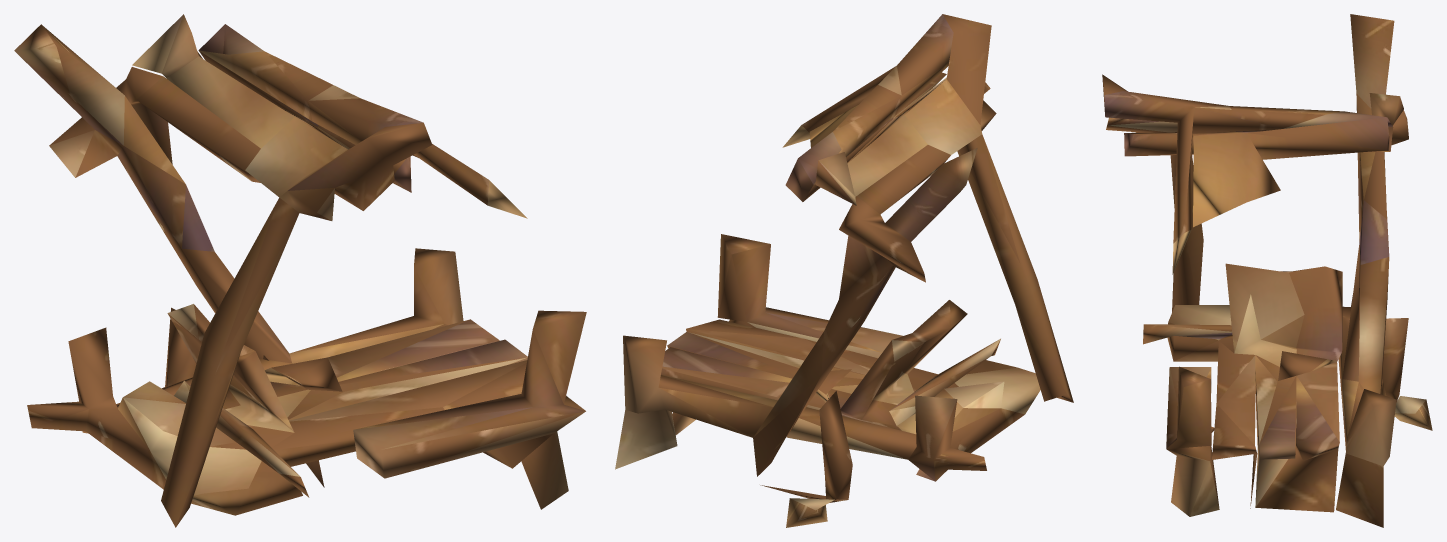
The model's file is node_fishing.glb.
3 views of the same model, side by side, from view 1: azimuth 30°, elevation 25°; view 2: azimuth 150°, elevation 25°; view 3: azimuth 270°, elevation 25° (orthographic). The views are drawn at different scales.
Visible parts, largest first — view 1: tripo_node_50b17045-b70e-4ca6-81ed-20f26c976c71; view 2: tripo_node_50b17045-b70e-4ca6-81ed-20f26c976c71; view 3: tripo_node_50b17045-b70e-4ca6-81ed-20f26c976c71.
Part boxes in pixels (x1,y1,x2,y2): tripo_node_50b17045-b70e-4ca6-81ed-20f26c976c71: [14, 14, 586, 527]; tripo_node_50b17045-b70e-4ca6-81ed-20f26c976c71: [615, 14, 1073, 527]; tripo_node_50b17045-b70e-4ca6-81ed-20f26c976c71: [1102, 14, 1432, 527].
Bounding box in the file's own units: 0.883 × 0.9129 × 0.7595.
1 material, 1 textured.
